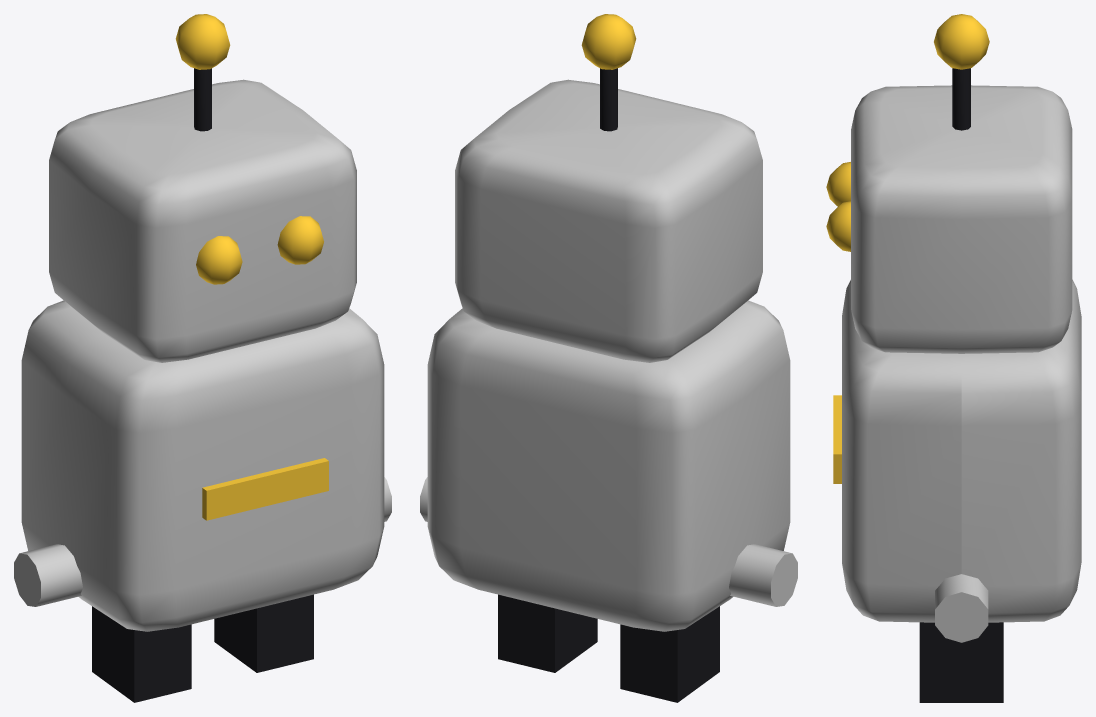
The model's file is prize_robot.fbx.
3 renders of one model, left to right at view 1: azimuth 30°, elevation 25°; view 2: azimuth 150°, elevation 25°; view 3: azimuth 270°, elevation 25°, orthographic.
Parts seen in each view (by area): view 1: prize_robot; view 2: prize_robot; view 3: prize_robot.
Boxes of the visible parts, x1,y1,x2,y2 form: prize_robot: (14, 14, 391, 702); prize_robot: (420, 14, 797, 702); prize_robot: (826, 14, 1081, 702).
Bounding box in the file's own units: 0.86 × 1.52 × 0.5468.
